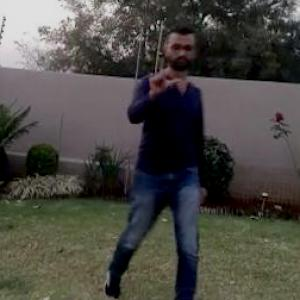land_hand: (138, 57, 182, 94)
